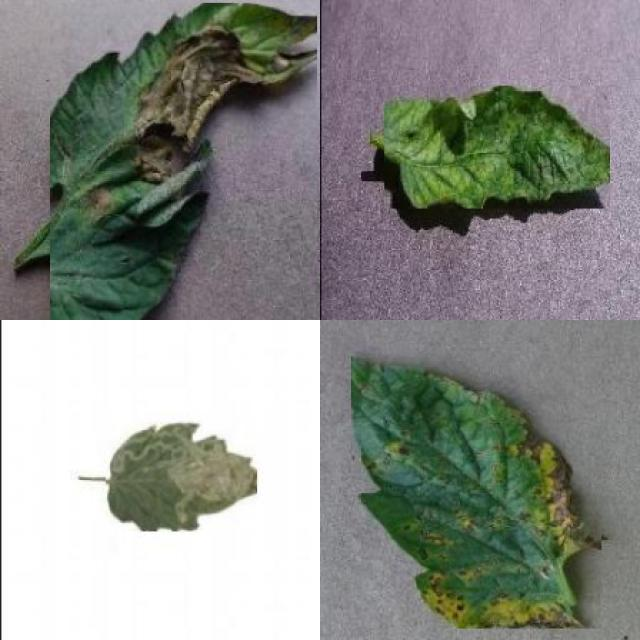Early Blight: (350, 352, 601, 629)
Late Blight: (50, 3, 317, 320)
Leaf Miner: (106, 418, 257, 532)
Mosaic Virus: (384, 86, 610, 208)
